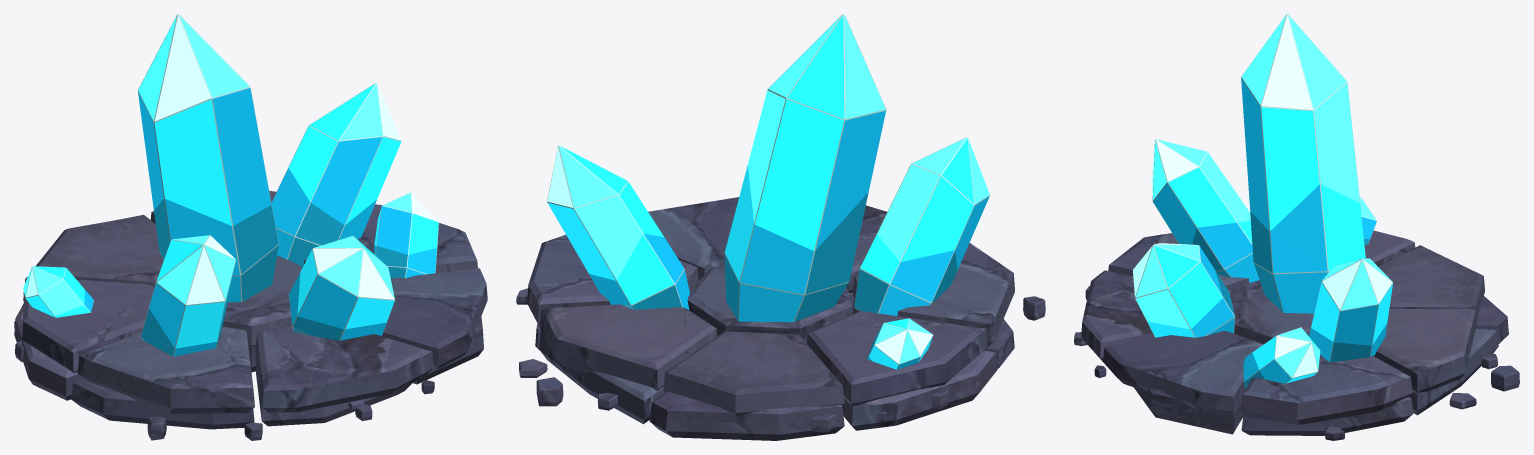
Rendered from SM_CC_CrystalShards.fbx.
The picture shows the model from 3 angles, left to right: view 1: azimuth 30°, elevation 25°; view 2: azimuth 150°, elevation 25°; view 3: azimuth 270°, elevation 25°; orthographic projection. The views are drawn at different scales.
Visible parts, largest first — view 1: SM_CC_CrystalShards; view 2: SM_CC_CrystalShards; view 3: SM_CC_CrystalShards.
Boxes of the visible parts, left/top/right/bottom form: SM_CC_CrystalShards: left=14, top=14, right=487, bottom=440; SM_CC_CrystalShards: left=516, top=14, right=1045, bottom=440; SM_CC_CrystalShards: left=1074, top=14, right=1519, bottom=440.
Bounding box in the file's own units: 0.6 × 0.5946 × 0.45.
